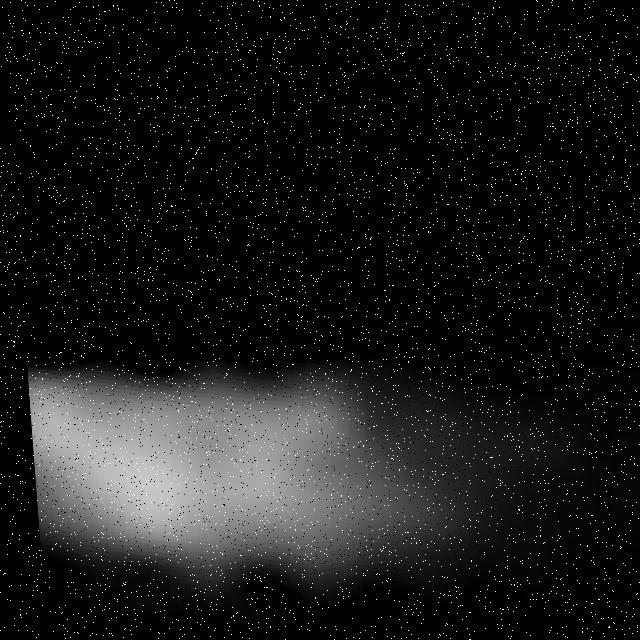person: (19, 318, 481, 623)
